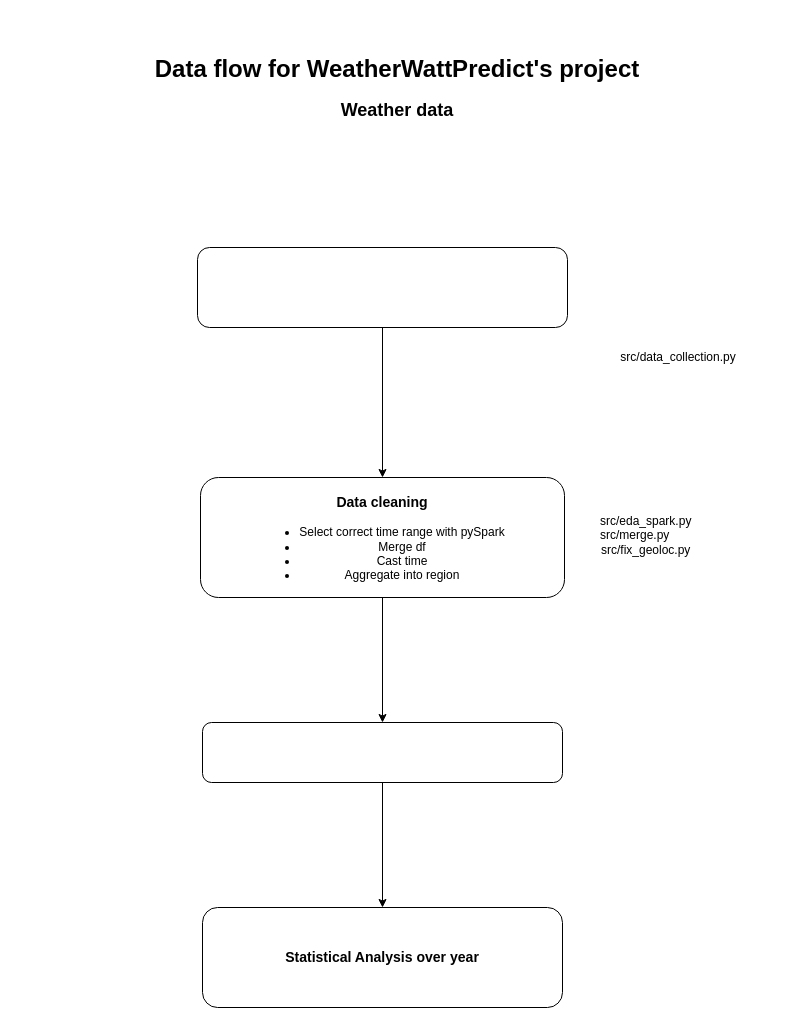
The diagram is 794 pixels wide and 1025 high, and some of its shapes have lost their labels. Here are the shapes that lost their labels. From the top down, the centre of each, then its label:
point (382, 287): Data collection Python script to download weather data from 1950 to 2023
point (382, 752): Data viz
